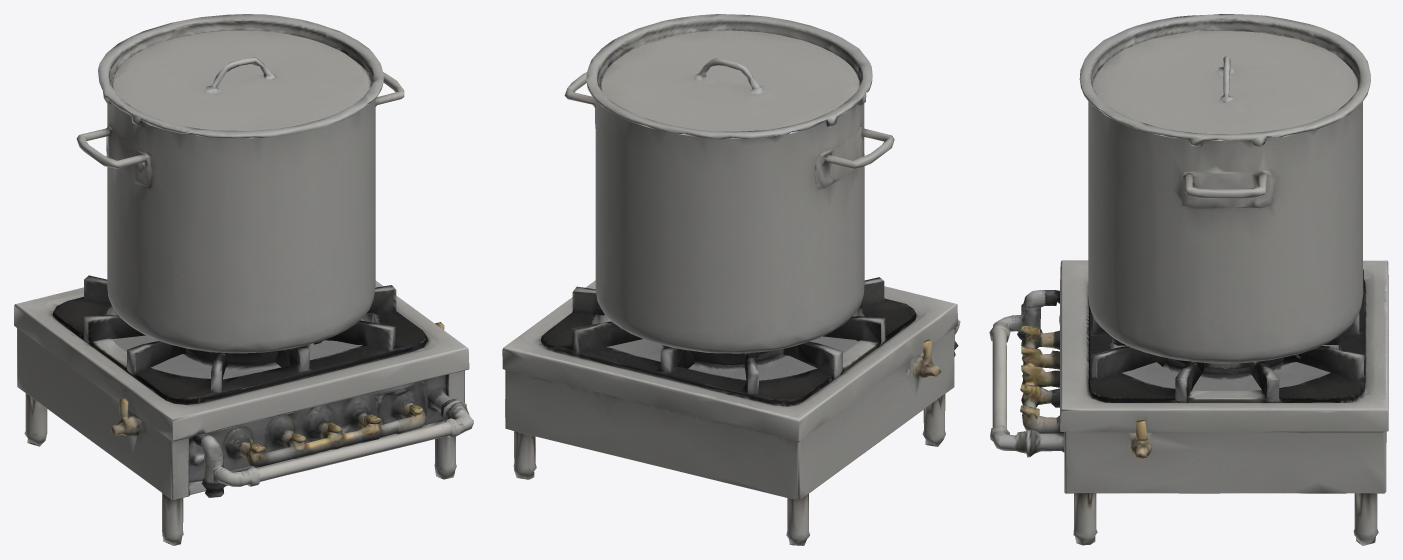
The model's file is nabe.glb.
3 renders of one model, left to right at view 1: azimuth 30°, elevation 25°; view 2: azimuth 150°, elevation 25°; view 3: azimuth 270°, elevation 25°, orthographic. The views are drawn at different scales.
Parts seen in each view (by area): view 1: tripo_node_a56474e5-ce36-46e3-be6e-04f11330839d; view 2: tripo_node_a56474e5-ce36-46e3-be6e-04f11330839d; view 3: tripo_node_a56474e5-ce36-46e3-be6e-04f11330839d.
Part boxes in pixels (x1,y1,x2,y2): tripo_node_a56474e5-ce36-46e3-be6e-04f11330839d: [14, 14, 473, 545]; tripo_node_a56474e5-ce36-46e3-be6e-04f11330839d: [502, 14, 960, 545]; tripo_node_a56474e5-ce36-46e3-be6e-04f11330839d: [989, 14, 1388, 545].
Size of the model in its own units: 0.885 by 1 by 0.8794.
1 material, 1 textured.
